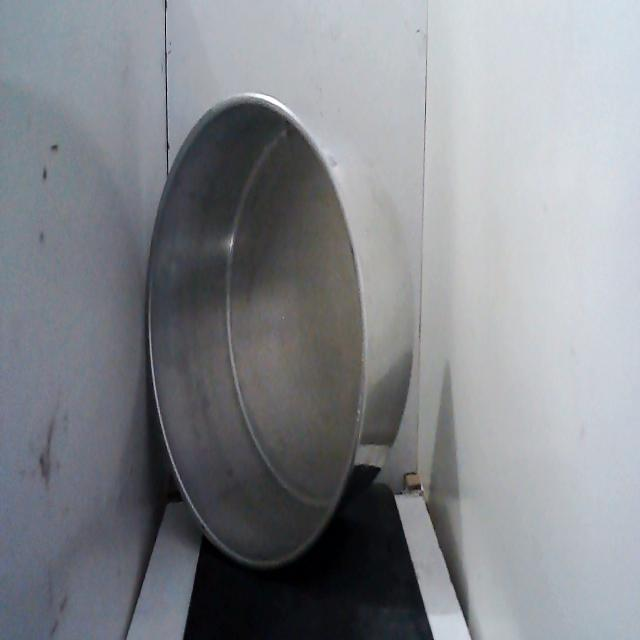metal: (138, 82, 426, 583)
